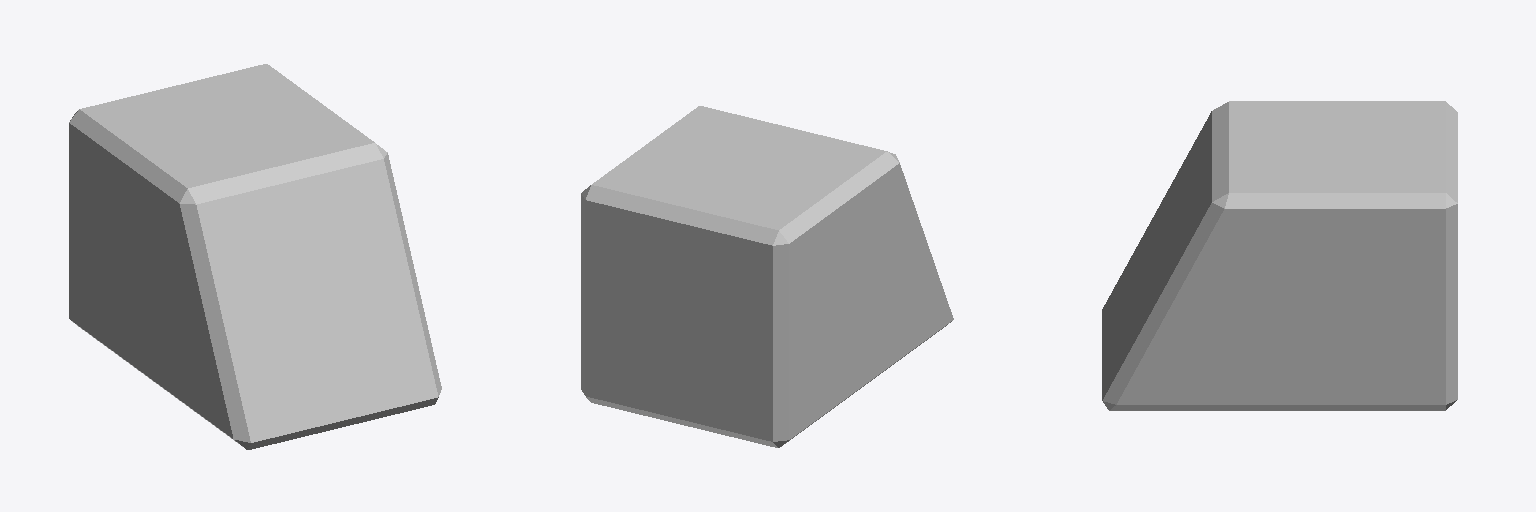
The model's file is blockSlope.obj.
3 views of the same model, side by side, from view 1: azimuth 30°, elevation 25°; view 2: azimuth 150°, elevation 25°; view 3: azimuth 270°, elevation 25° (orthographic).
Visible parts, largest first — view 1: Cube; view 2: Cube; view 3: Cube.
Part boxes in pixels (left/top/right/bottom): Cube: left=69, top=64, right=441, bottom=449; Cube: left=581, top=106, right=953, bottom=447; Cube: left=1102, top=101, right=1457, bottom=410.
Size of the model in its own units: 2 by 2 by 2.96.